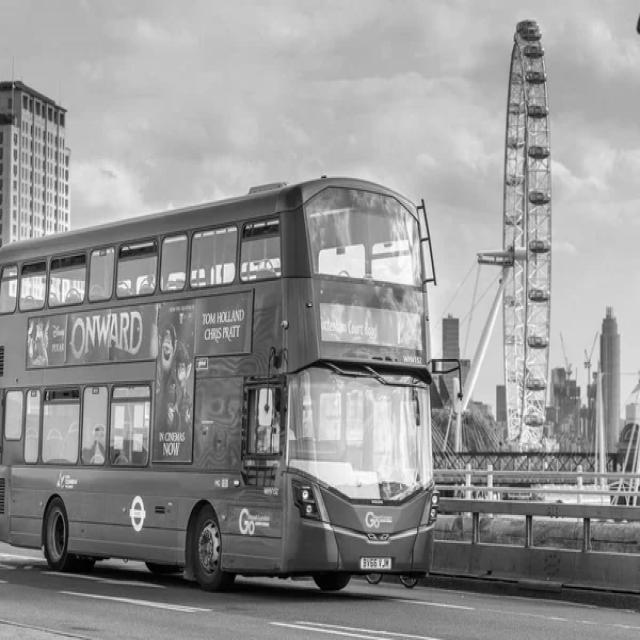Bus: (0, 177, 435, 592)
